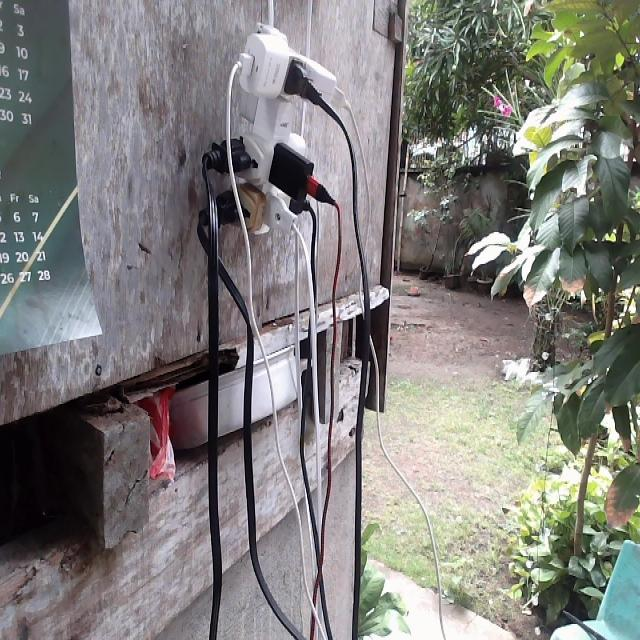-: (207, 19, 337, 240)
